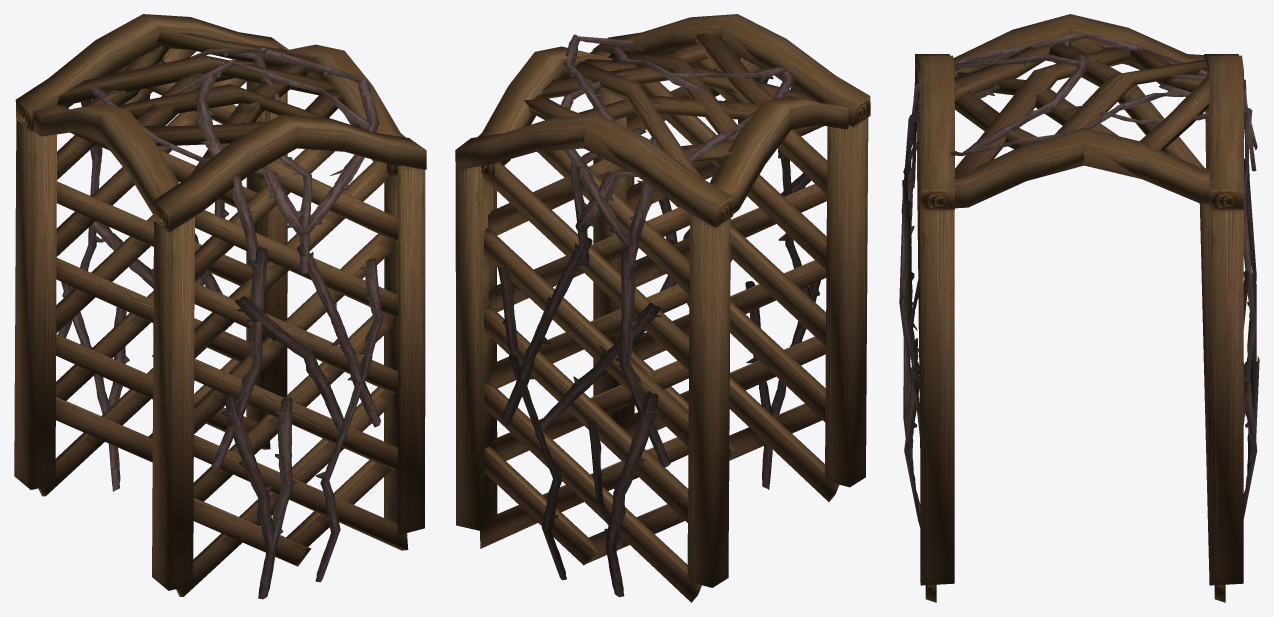
3 renders of one model, left to right at view 1: azimuth 30°, elevation 25°; view 2: azimuth 150°, elevation 25°; view 3: azimuth 270°, elevation 25°, orthographic. The views are drawn at different scales.
Bounding box in the file's own units: 4.24 × 7.43 × 4.84.
Materials: 2 (2 with a texture image).
